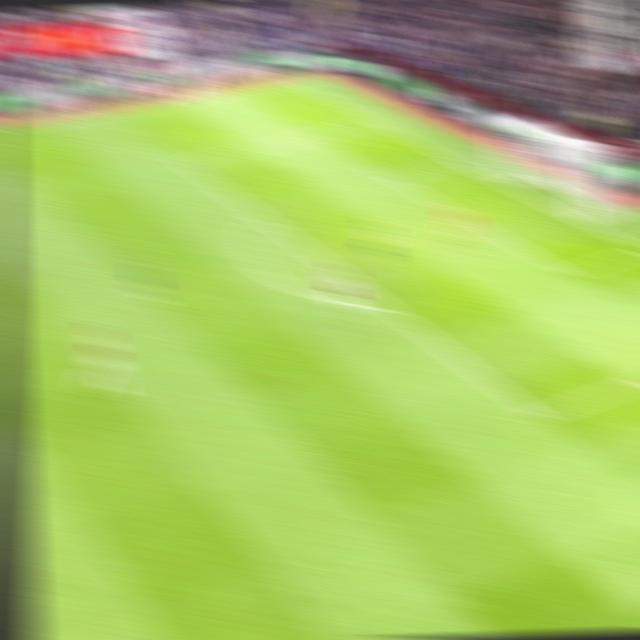bigarea_bottom_inner: (524, 405, 553, 425)
bigarea_top_inner: (174, 154, 200, 170)
bigarea_top_outter: (362, 116, 387, 126)
bottom_arc_area_intersection: (376, 301, 402, 315)
corner: (277, 77, 301, 85)
smallarea_bottom_inner: (556, 262, 585, 280)
smallarea_bottom_outter: (628, 240, 640, 257)
smallarea_top_inner: (382, 172, 408, 184)
smallarea_top_outter: (442, 155, 467, 167)
top_arc_area_intersection: (252, 211, 279, 225)
